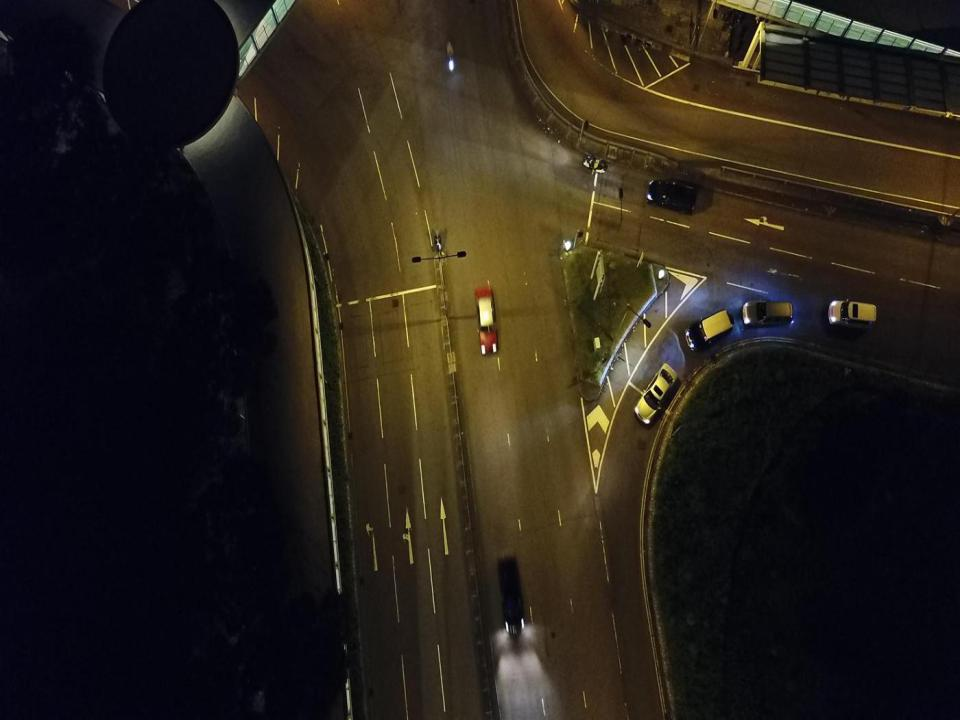car: (634, 362, 678, 426), (497, 556, 526, 635), (684, 308, 734, 353), (646, 177, 698, 216), (474, 285, 498, 355), (828, 298, 877, 331), (743, 297, 793, 327)
